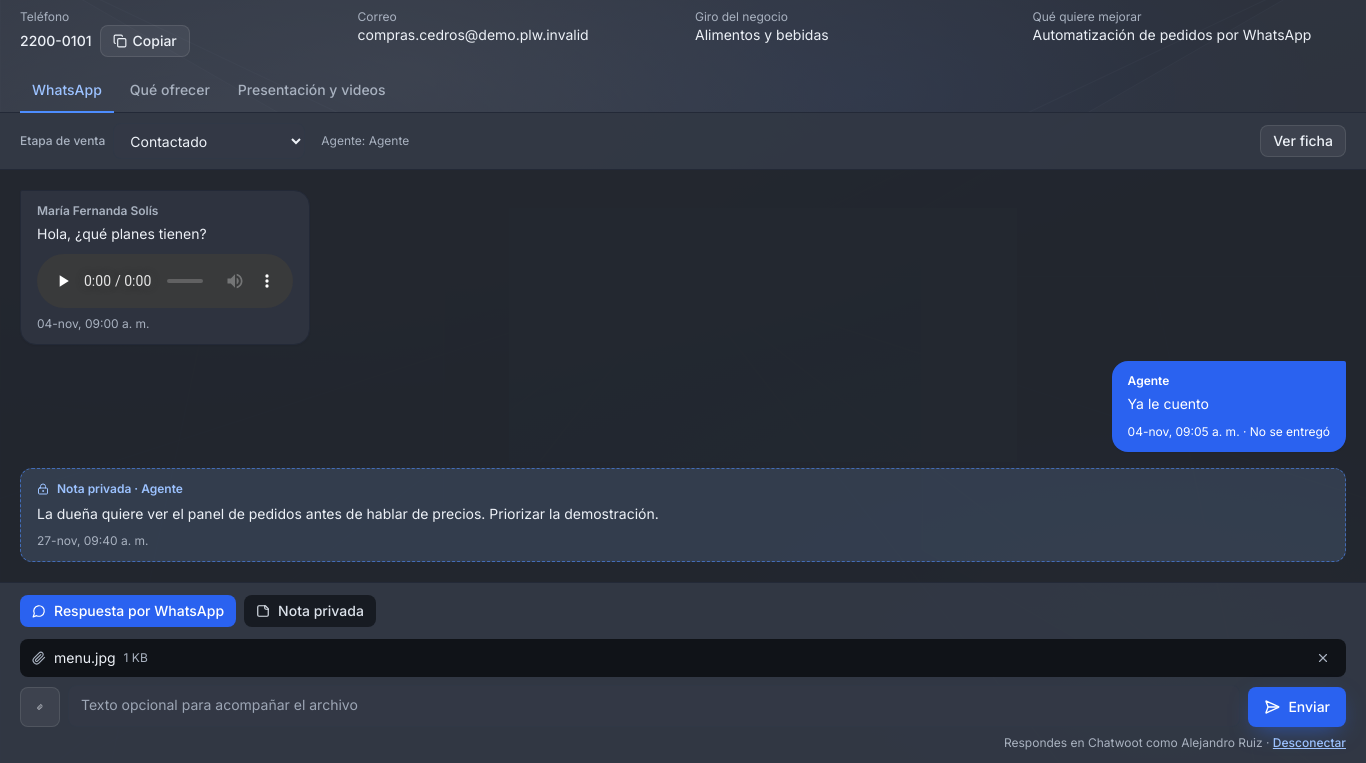
Test: the agent sends a photo with a caption, and it shows in the chat
The width and height of the screenshot is (1366, 763).
Earlier steps of the test are not shown.
(page scrolled)
Expected: the text "Hola, ¿qué planes tienen?" is shown, [37, 225, 207, 242]
Expected: the text "menu.jpg" is shown, [54, 648, 116, 668]
In the text box named "Mensaje de WhatsApp": (654, 706) [68, 685, 1240, 727], type "Así quedaría su menú"
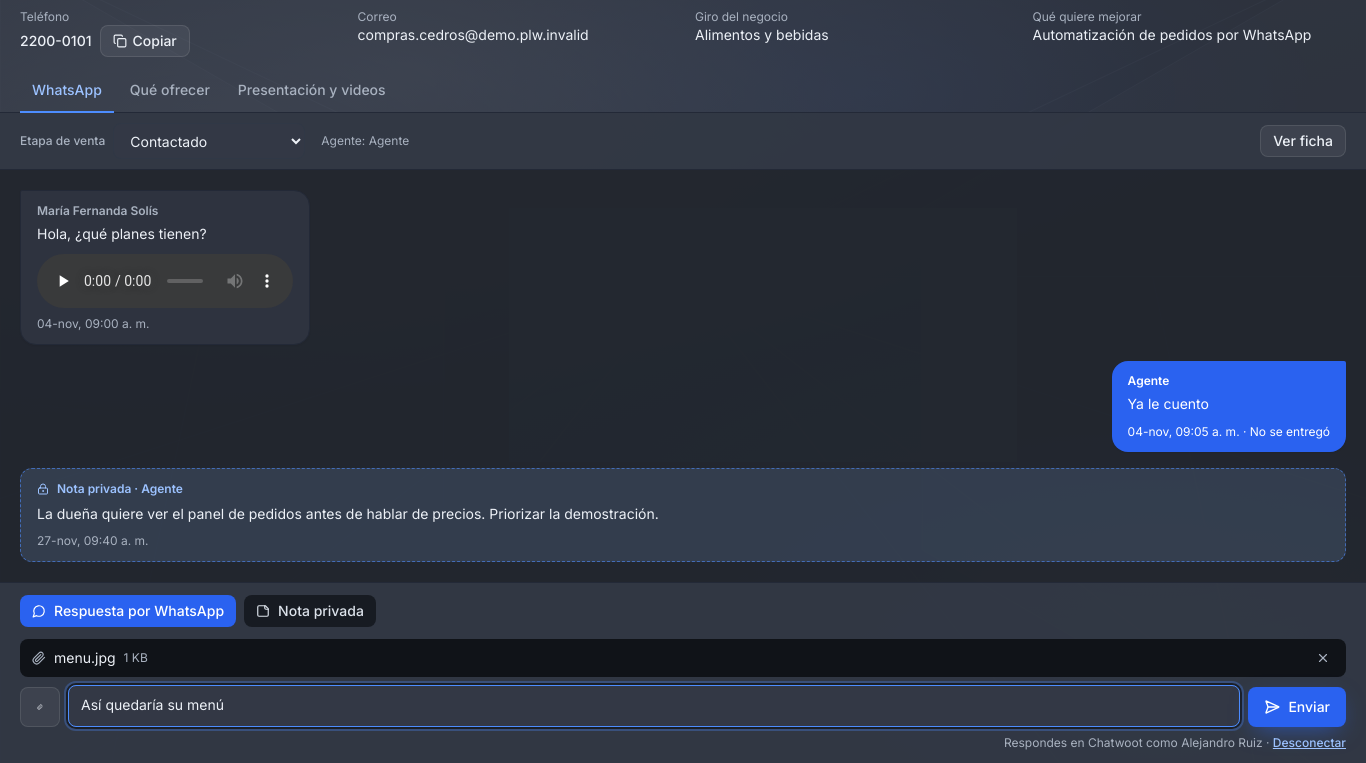
Click the button with aria-label "Enviar por WhatsApp": (1297, 707) [1248, 687, 1346, 727]
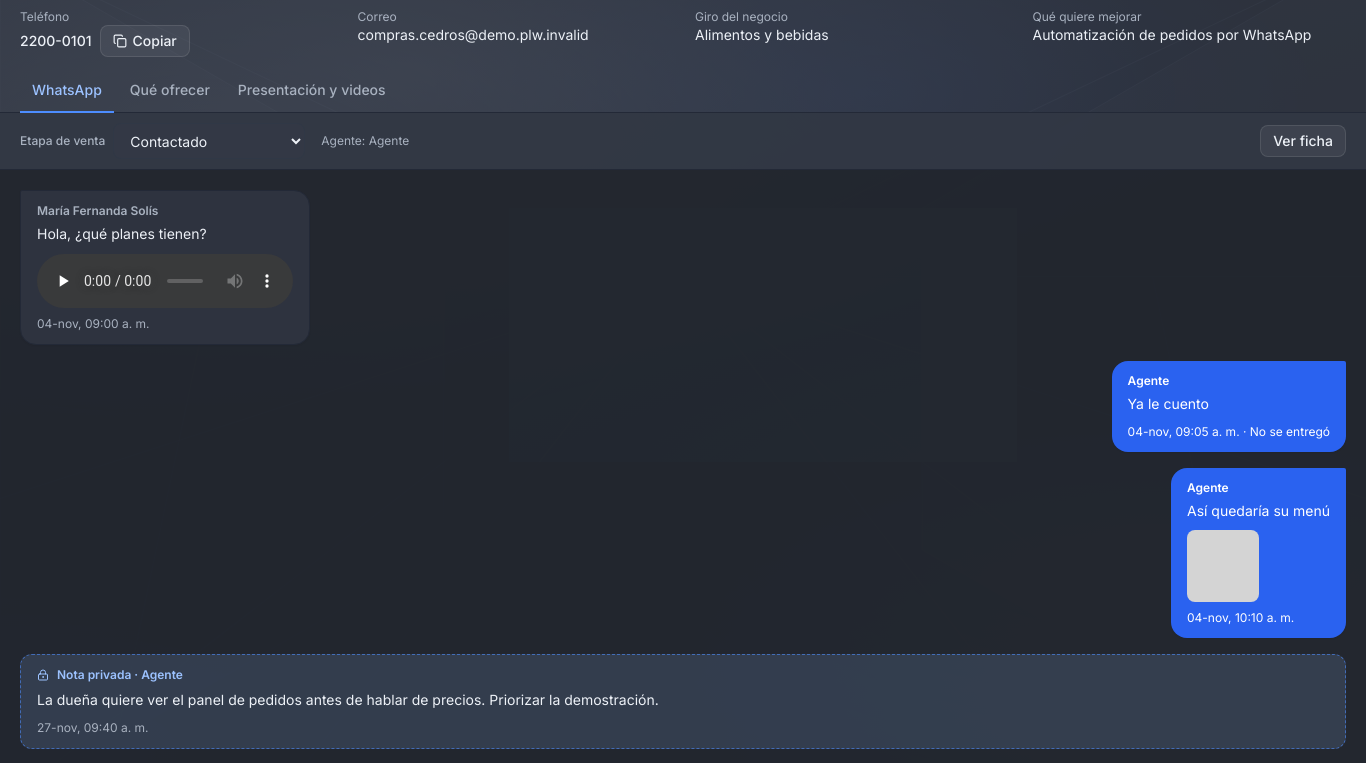
Expected: the text "menu.jpg" is gone
